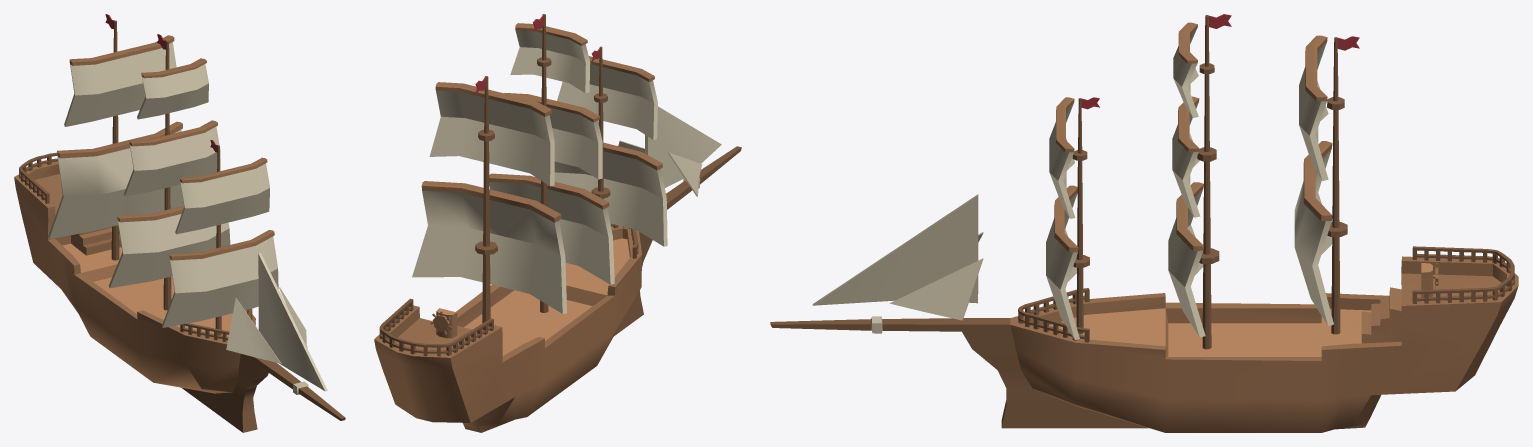
File: caravel.glb
3 renders of one model, left to right at view 1: azimuth 30°, elevation 25°; view 2: azimuth 150°, elevation 25°; view 3: azimuth 270°, elevation 25°, orthographic. The views are drawn at different scales.
Visible parts, largest first — view 1: BigShip_Cylinder, BackSail_Cylinder.005, MidleSail_Cylinder.001, Front_Sail_Cylinder.004; view 2: BigShip_Cylinder, BackSail_Cylinder.005, MidleSail_Cylinder.001, Front_Sail_Cylinder.004; view 3: BigShip_Cylinder, BackSail_Cylinder.005, MidleSail_Cylinder.001, Front_Sail_Cylinder.004.
Boxes of the visible parts, left/top/right/bottom form: BigShip_Cylinder: left=14, top=14, right=345, bottom=432; BackSail_Cylinder.005: left=48, top=35, right=183, bottom=238; MidleSail_Cylinder.001: left=109, top=58, right=230, bottom=288; Front_Sail_Cylinder.004: left=162, top=157, right=278, bottom=327; BigShip_Cylinder: left=374, top=14, right=741, bottom=432; BackSail_Cylinder.005: left=412, top=82, right=566, bottom=313; MidleSail_Cylinder.001: left=489, top=23, right=614, bottom=284; Front_Sail_Cylinder.004: left=554, top=56, right=667, bottom=246; BigShip_Cylinder: left=770, top=14, right=1518, bottom=432; BackSail_Cylinder.005: left=1294, top=35, right=1333, bottom=325; MidleSail_Cylinder.001: left=1168, top=22, right=1205, bottom=337; Front_Sail_Cylinder.004: left=1046, top=97, right=1079, bottom=339.
Size of the model in its own units: 1.7 by 3.85 by 6.38.
